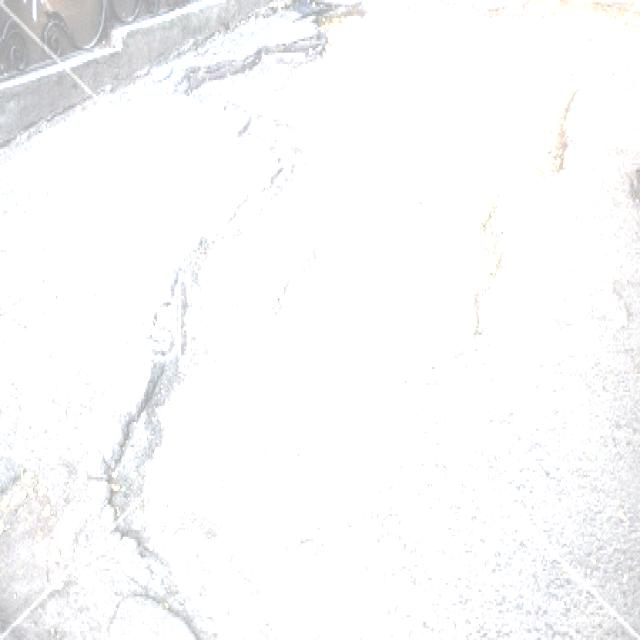Pothole: (148, 5, 640, 253)
